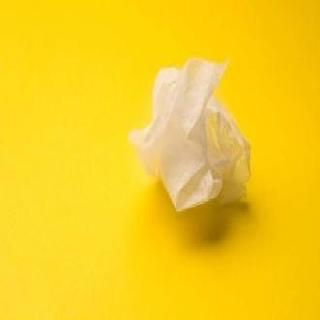8/可回收垃圾/纸: (132, 59, 254, 212)
